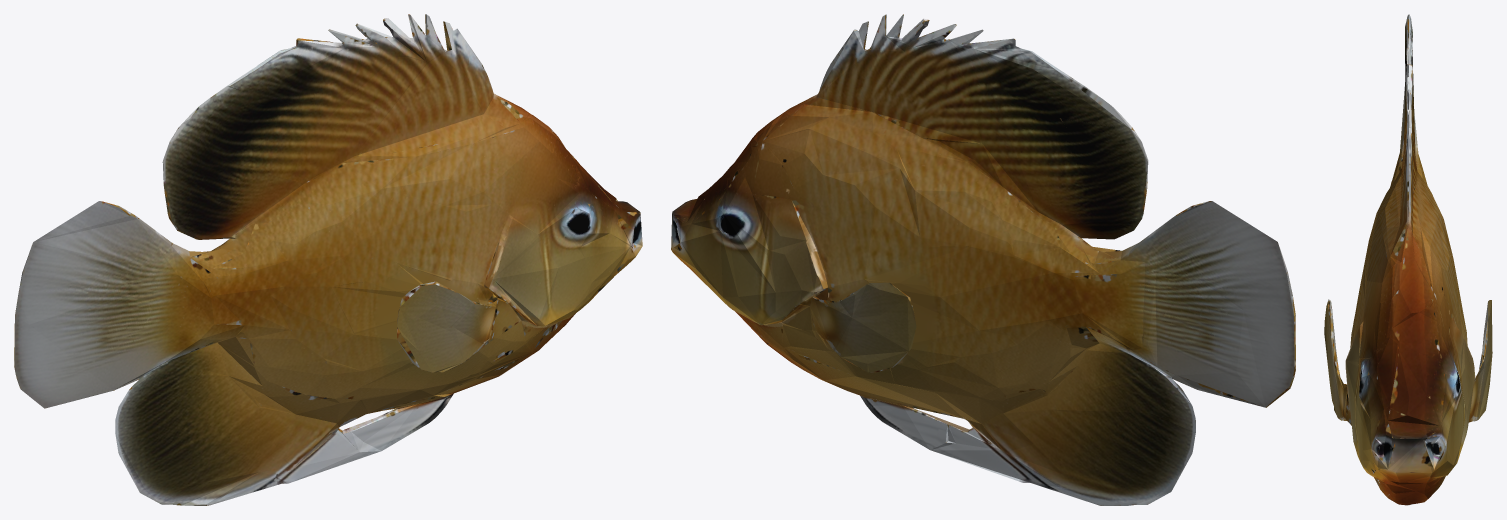
Rendered from fish_0061_smpl23_resized.glb.
3 renders of one model, left to right at view 1: azimuth 30°, elevation 25°; view 2: azimuth 150°, elevation 25°; view 3: azimuth 270°, elevation 25°, orthographic.
Visible parts, largest first — view 1: world; view 2: world; view 3: world.
Part boxes in pixels (<box>): world: <box>14,14,642,505</box>; world: <box>671,14,1295,505</box>; world: <box>1324,14,1492,505</box>.
Bounding box in the file's own units: 1.98 × 1.37 × 0.4584.
1 material, 1 textured.
